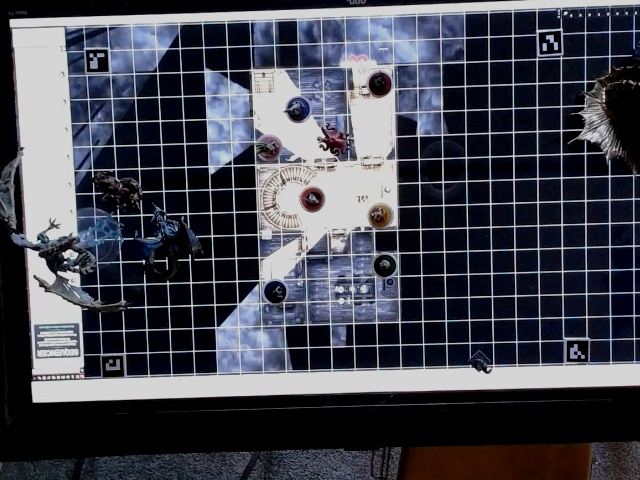blue: (260, 278, 290, 304)
green: (371, 252, 397, 277)
orange: (296, 183, 330, 215)
pink: (253, 133, 284, 162)
red: (365, 69, 394, 99)
violet: (283, 95, 314, 122)
yellow: (365, 199, 396, 231)
